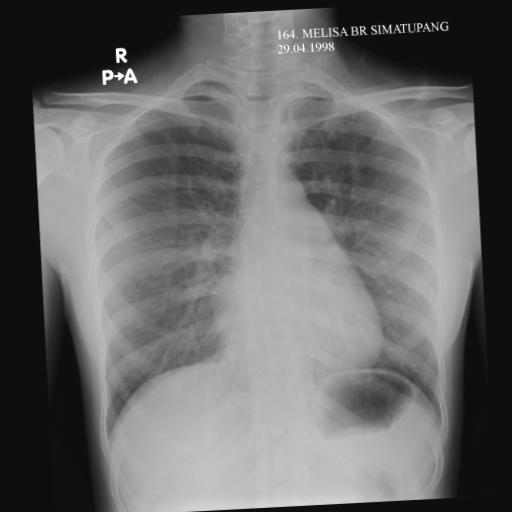kardiomegali: (76, 65, 452, 437)
